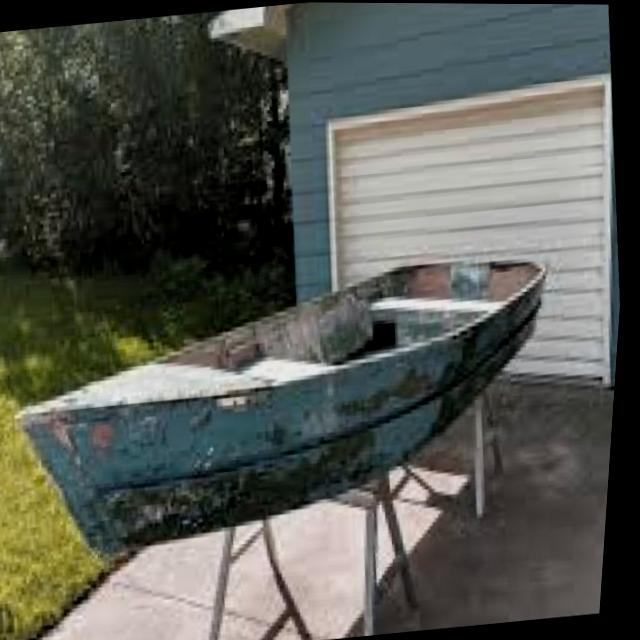ship2: (22, 260, 550, 562)
